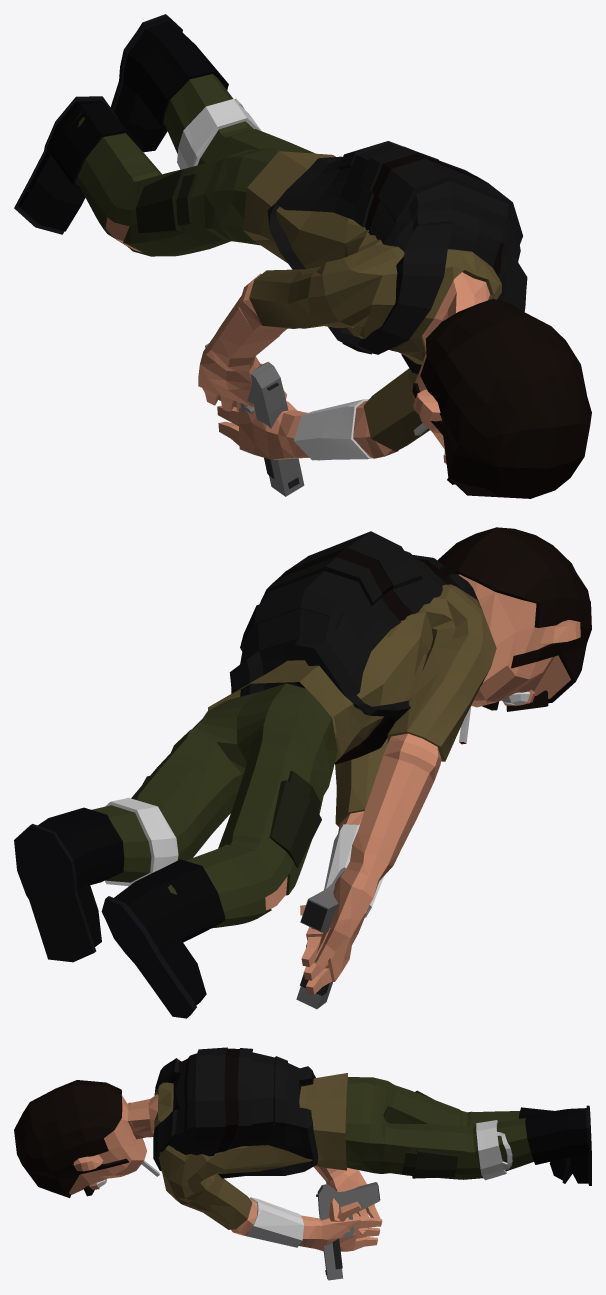
Rendered from frame_0051.obj.
The picture shows the model from 3 angles, top to bottom: view 1: azimuth 30°, elevation 25°; view 2: azimuth 150°, elevation 25°; view 3: azimuth 270°, elevation 25°; orthographic projection. The views are drawn at different scales.
Parts seen in each view (by area): view 1: Body, Gun; view 2: Body, Gun; view 3: Body, Gun.
Boxes of the visible parts, bbox=[...] form: Body: bbox=[14, 14, 591, 498]; Gun: bbox=[205, 343, 304, 496]; Body: bbox=[14, 527, 591, 1018]; Gun: bbox=[296, 867, 346, 1009]; Body: bbox=[14, 1047, 591, 1251]; Gun: bbox=[316, 1182, 380, 1280].
Size of the model in its own units: 1.13 by 1.91 by 4.15.
